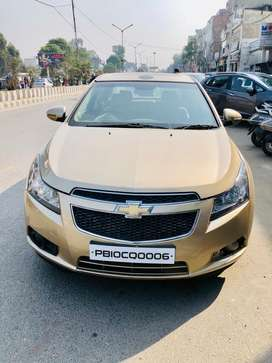PB10CQ0006: (89, 242, 175, 263)
